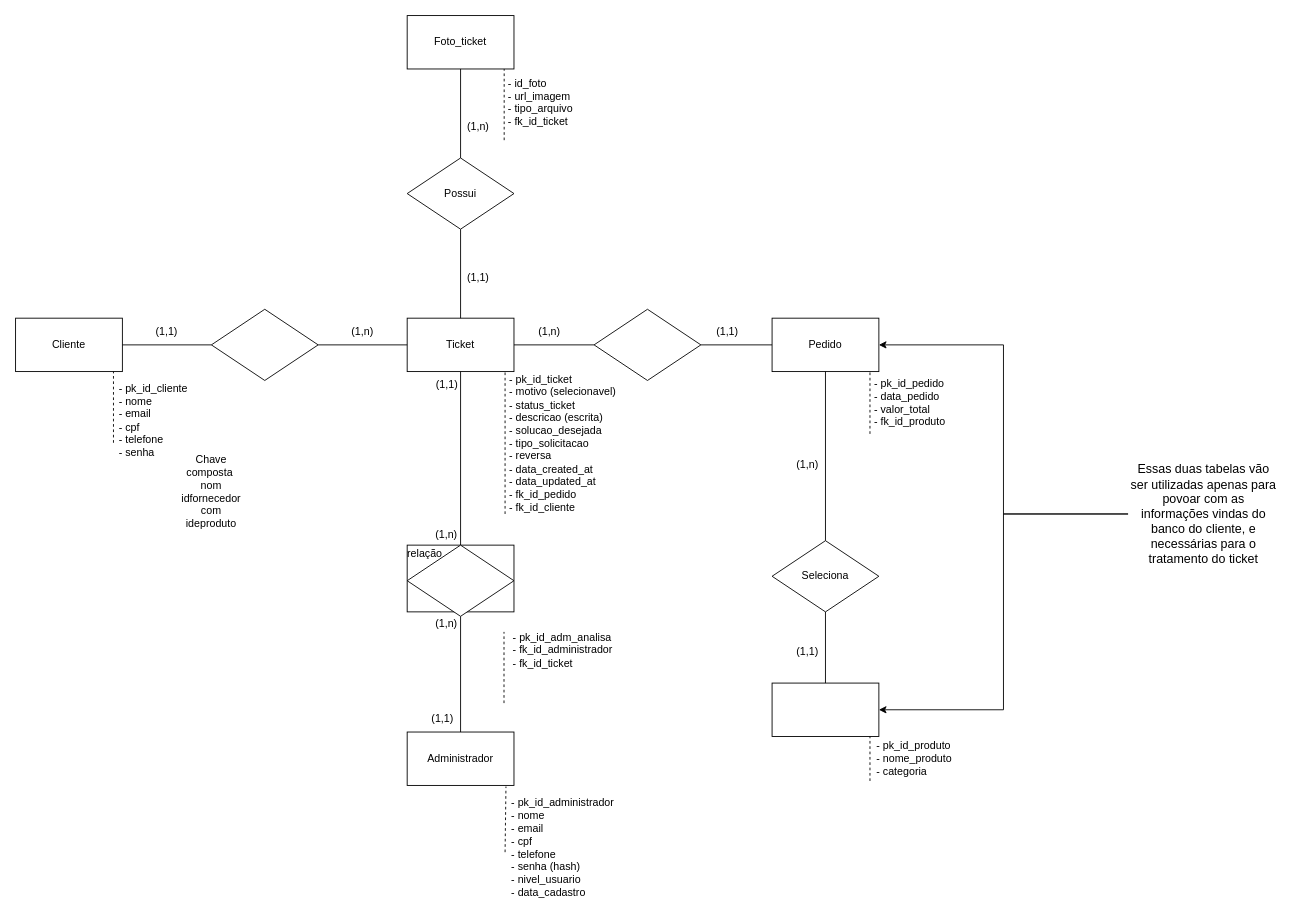
Some shapes in this 1295 by 914 pixel diagram are drawn without their labels. Each missing label, with the centre of its shape:
"Analisa" belongs at point 460,580.
"Consulta" belongs at point 647,344.
"Gera" belongs at point 264,344.
"Produto" belongs at point 825,709.
